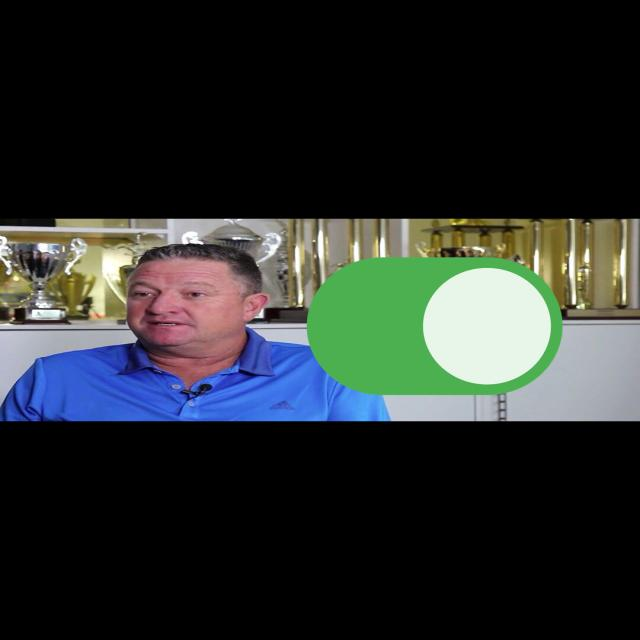social proof: (295, 204, 574, 459)
